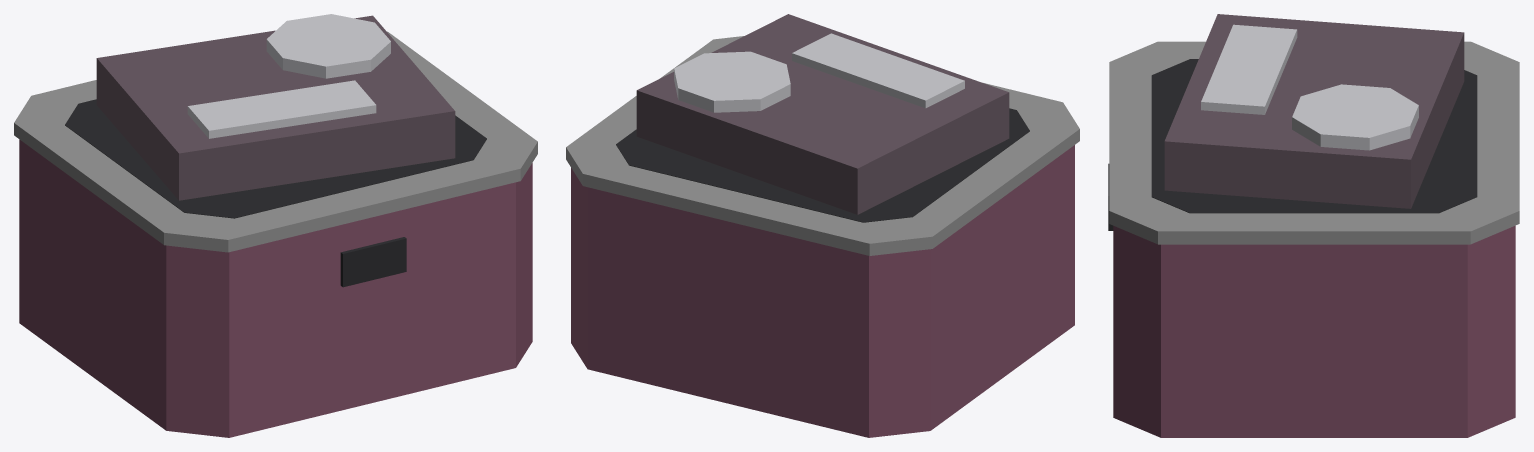
File: vge_spacer_box_electronics.obj
The picture shows the model from 3 angles, left to right: view 1: azimuth 30°, elevation 25°; view 2: azimuth 150°, elevation 25°; view 3: azimuth 270°, elevation 25°; orthographic projection. The views are drawn at different scales.
Visible parts, largest first — view 1: vge_spacer_box_electronics_0, vge_spacer_box_electronics_4, vge_spacer_box_electronics_1, vge_spacer_box_electronics_5, vge_spacer_box_electronics_2, vge_spacer_box_electronics_3; view 2: vge_spacer_box_electronics_0, vge_spacer_box_electronics_4, vge_spacer_box_electronics_1, vge_spacer_box_electronics_5, vge_spacer_box_electronics_2; view 3: vge_spacer_box_electronics_0, vge_spacer_box_electronics_4, vge_spacer_box_electronics_1, vge_spacer_box_electronics_5, vge_spacer_box_electronics_2.
Boxes of the visible parts, x1,y1,x2,y2 form: vge_spacer_box_electronics_0: (19, 139, 532, 437); vge_spacer_box_electronics_4: (96, 15, 455, 200); vge_spacer_box_electronics_1: (14, 31, 537, 252); vge_spacer_box_electronics_5: (187, 14, 390, 138); vge_spacer_box_electronics_2: (65, 99, 486, 218); vge_spacer_box_electronics_3: (340, 237, 406, 287); vge_spacer_box_electronics_0: (571, 145, 1074, 437); vge_spacer_box_electronics_4: (636, 14, 1009, 214); vge_spacer_box_electronics_1: (566, 36, 1079, 255); vge_spacer_box_electronics_5: (674, 33, 964, 112); vge_spacer_box_electronics_2: (616, 108, 1029, 222); vge_spacer_box_electronics_0: (1113, 225, 1515, 437); vge_spacer_box_electronics_4: (1164, 14, 1464, 208); vge_spacer_box_electronics_1: (1109, 41, 1519, 244); vge_spacer_box_electronics_5: (1201, 24, 1418, 150); vge_spacer_box_electronics_2: (1151, 59, 1477, 213).
Size of the model in its own units: 0.9384 by 0.6233 by 0.8584.
